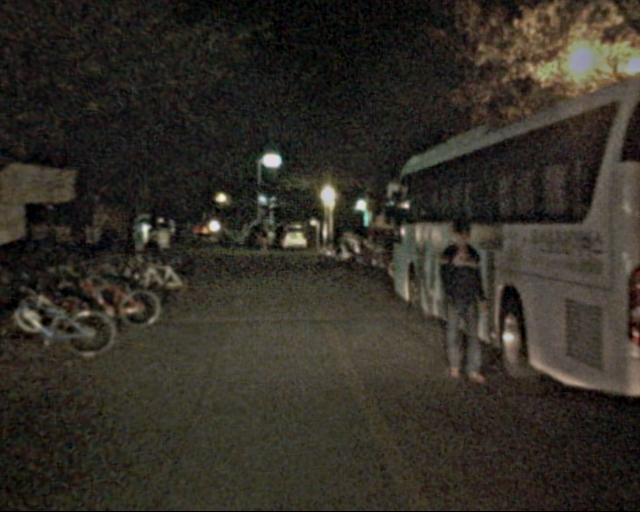person: (429, 212, 496, 388), (148, 219, 173, 280)
